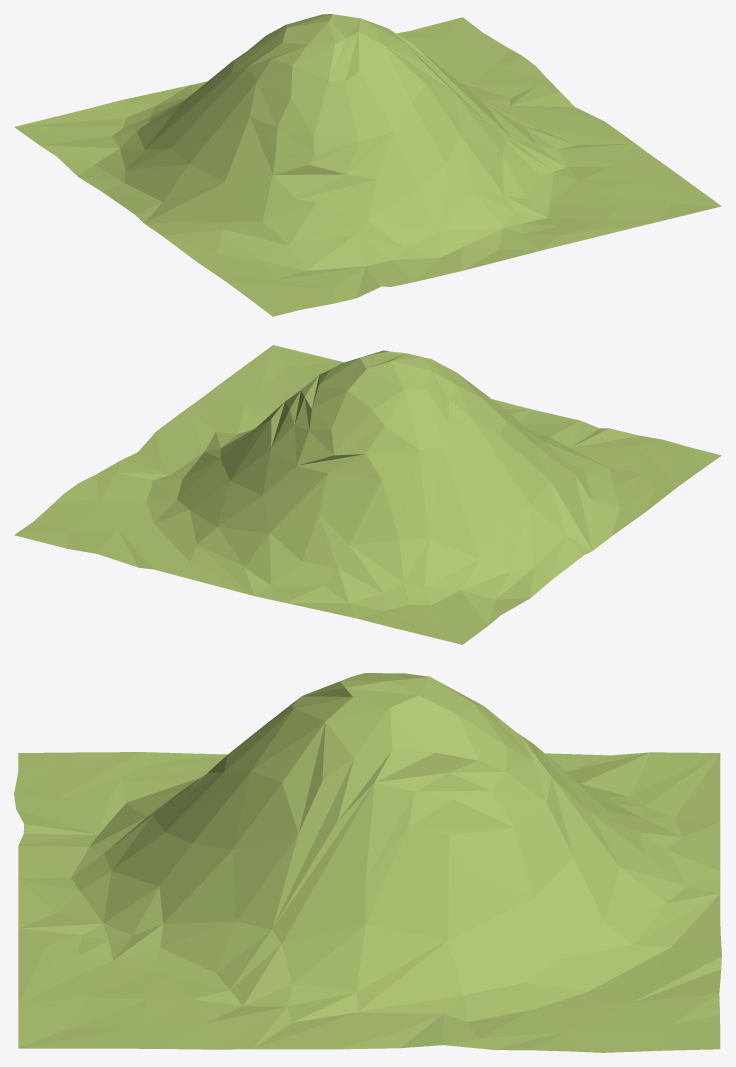
The model's file is landscape.08.fbx.
3 views of the same model, one above another, from view 1: azimuth 30°, elevation 25°; view 2: azimuth 150°, elevation 25°; view 3: azimuth 270°, elevation 25° (orthographic). The views are drawn at different scales.
Parts seen in each view (by area): view 1: landscape.08; view 2: landscape.08; view 3: landscape.08.
Part boxes in pixels (x1,y1,x2,y2): landscape.08: [14, 14, 721, 316]; landscape.08: [14, 345, 721, 644]; landscape.08: [14, 673, 721, 1052].
Size of the model in its own units: 3408 by 1078 by 3389.
